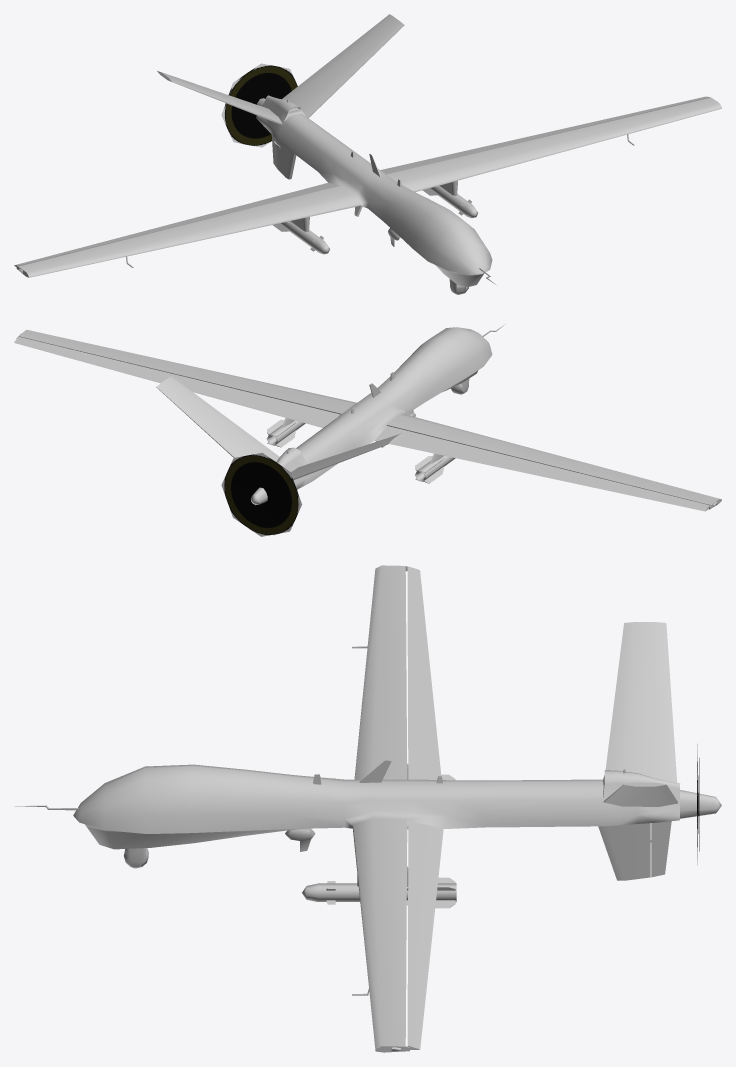
Rendered from Drone.fbx.
3 views of the same model, one above another, from view 1: azimuth 30°, elevation 25°; view 2: azimuth 150°, elevation 25°; view 3: azimuth 270°, elevation 25° (orthographic). The views are drawn at different scales.
Parts seen in each view (by area): view 1: Drone, propeller; view 2: Drone, propeller; view 3: Drone.
Part boxes in pixels (left/top/right/bottom): Drone: left=14, top=14, right=721, bottom=294; propeller: left=221, top=63, right=297, bottom=147; Drone: left=14, top=324, right=721, bottom=535; propeller: left=221, top=452, right=301, bottom=536; Drone: left=14, top=565, right=721, bottom=1052.
Size of the model in its own units: 21.32 by 3.66 by 13.22.
